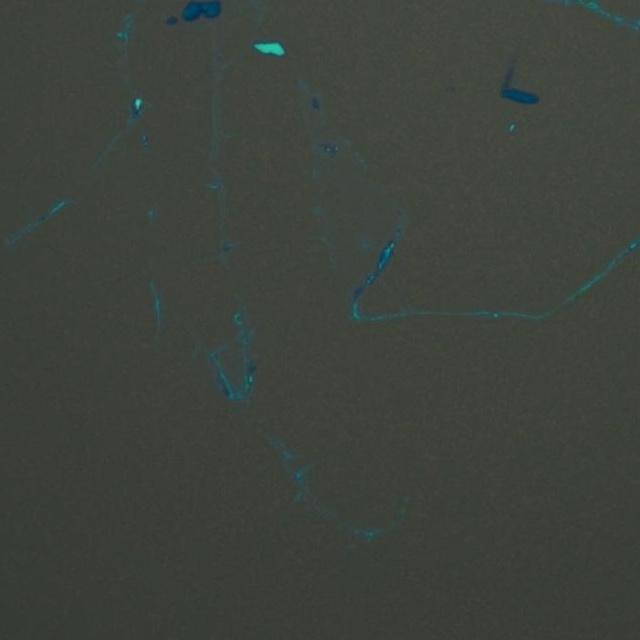monolayer-eWW4: (502, 65, 516, 90)
